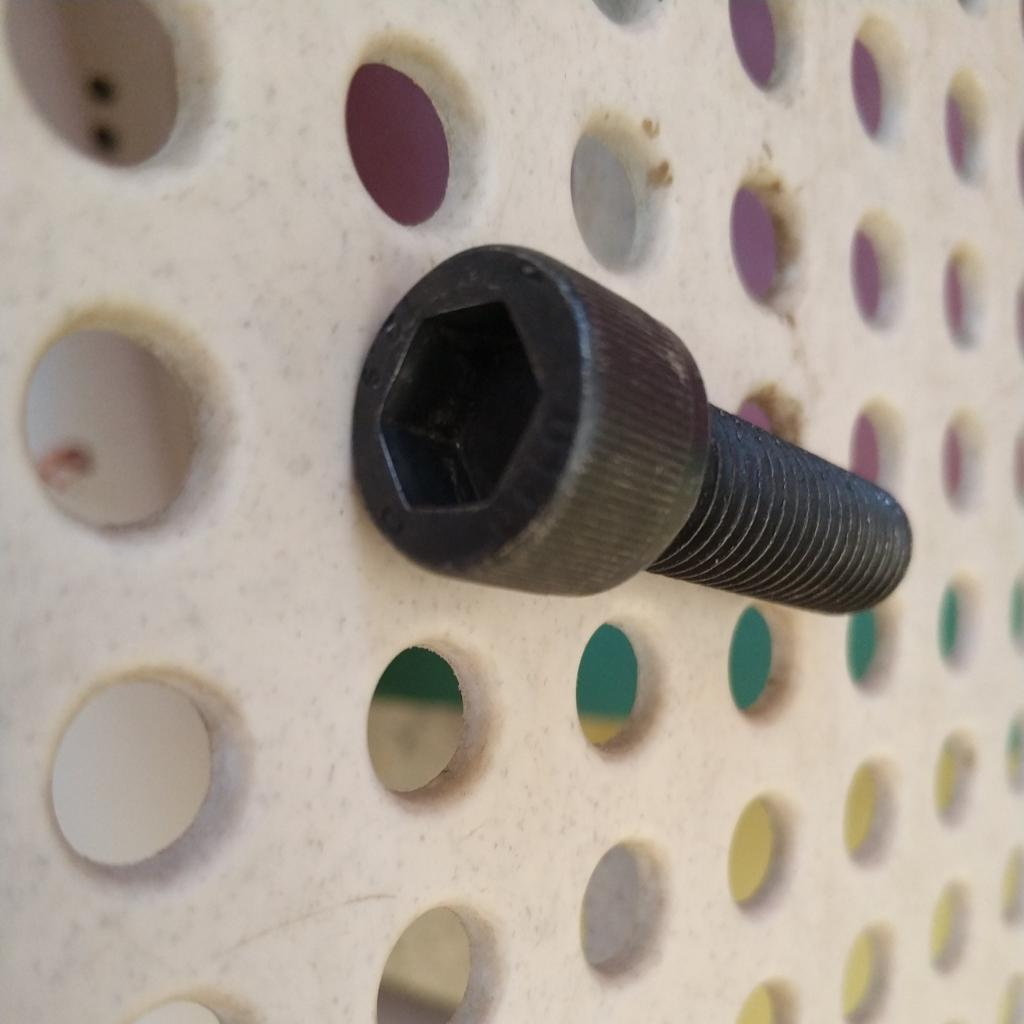screwtype1black: (342, 233, 921, 625)
